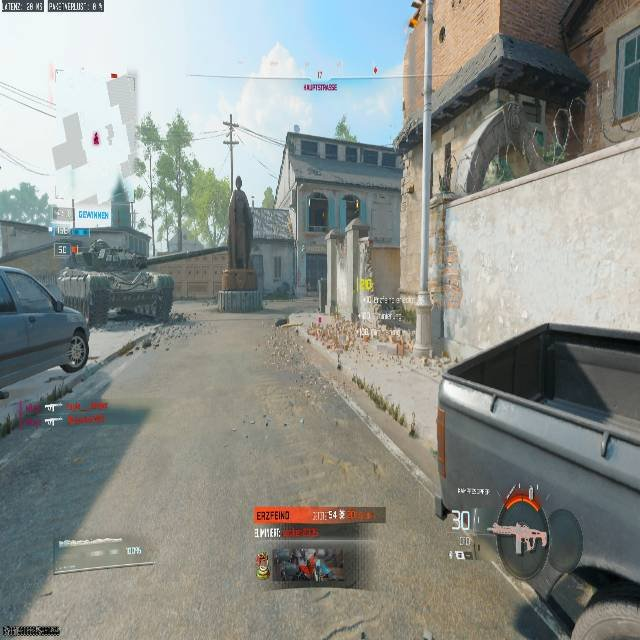player: (66, 322, 89, 369)
